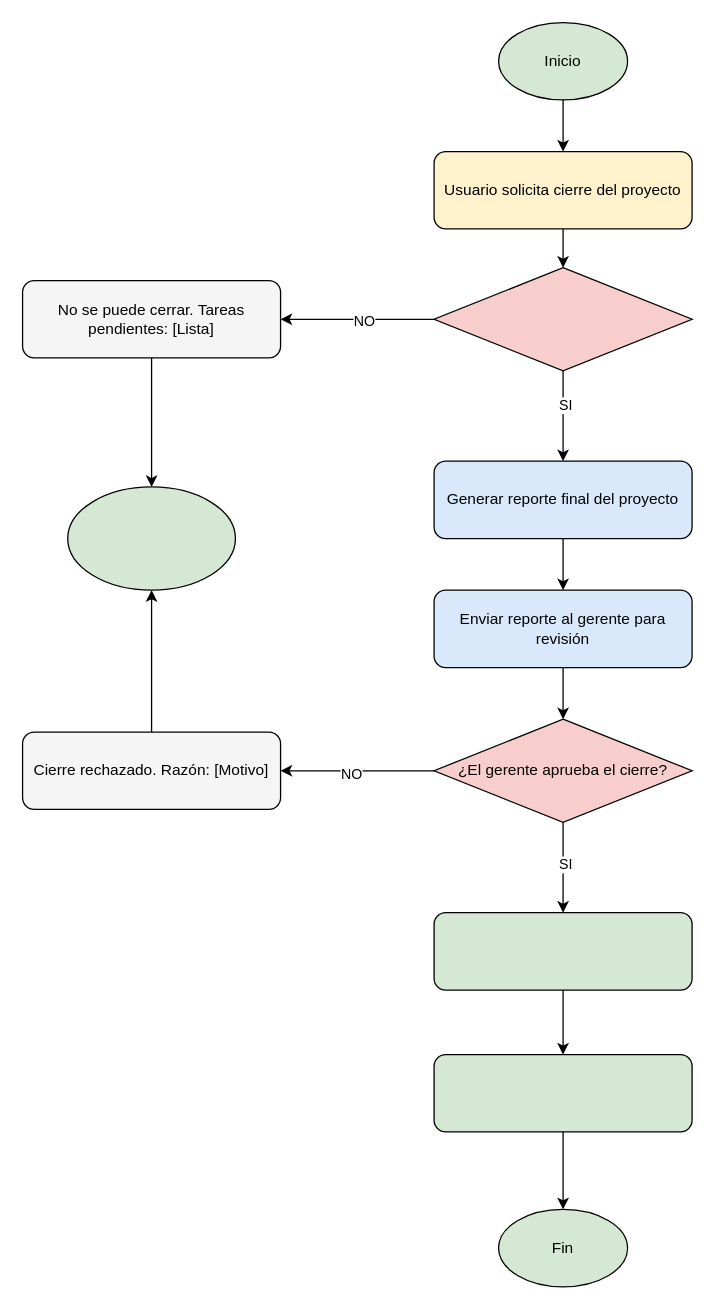
The diagram is 715 pixels wide and 1309 high, and some of its shapes have lost their labels. The shapes that lost their labels are listed below. From the top down, each one's centre as x and y in pixels, then its label:
At [562,318]: "¿Todas las tareas están completadas?".
At [150,538]: "Regresar al panel de gestión del proyecto".
At [562,950]: "Marcar proyecto como 'Cerrado'".
At [562,1092]: "Notificar equipo y liberar recursos".
